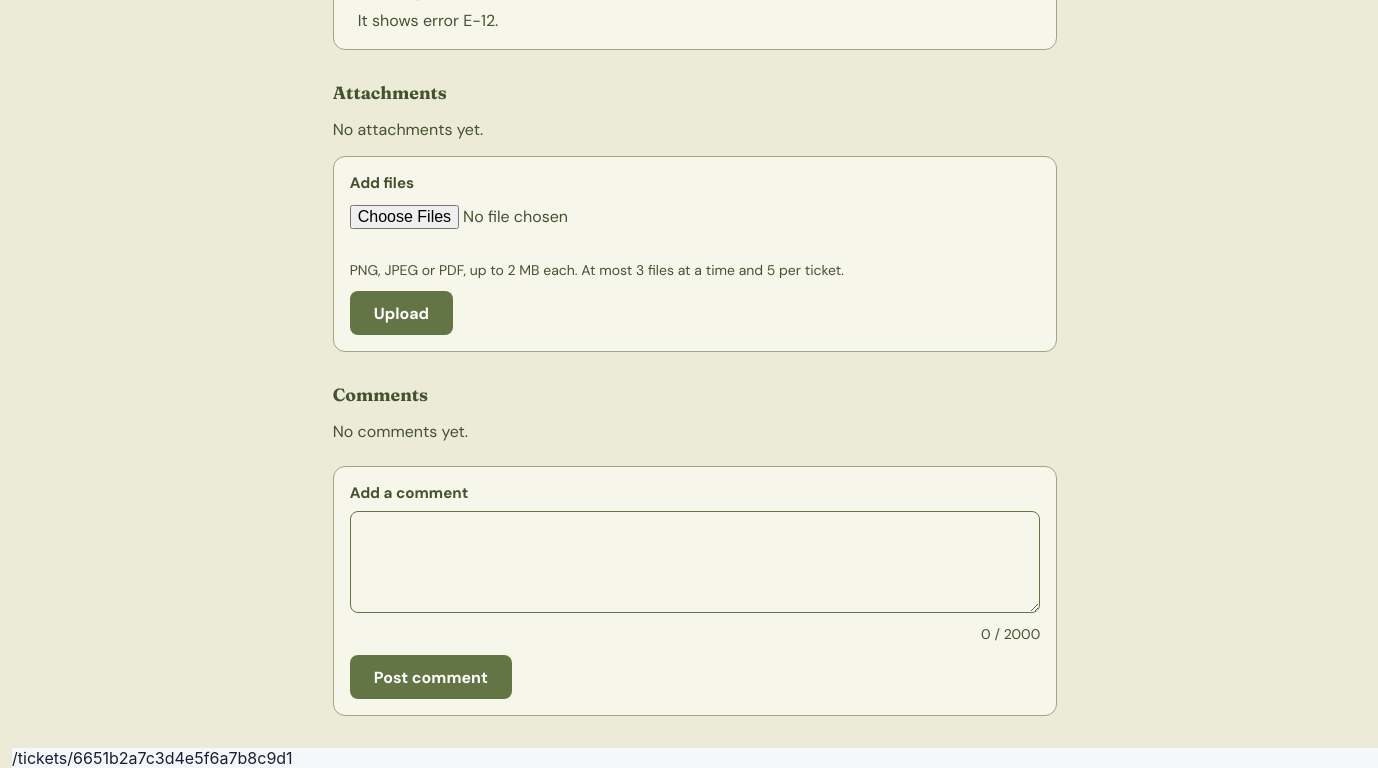
Test: comment form › shows the field message from a 400
(page scrolled)
Type "Hello" into the text box labelled "Add a comment".
click(695, 562); type("Hello")  # box [350, 511, 1040, 613]
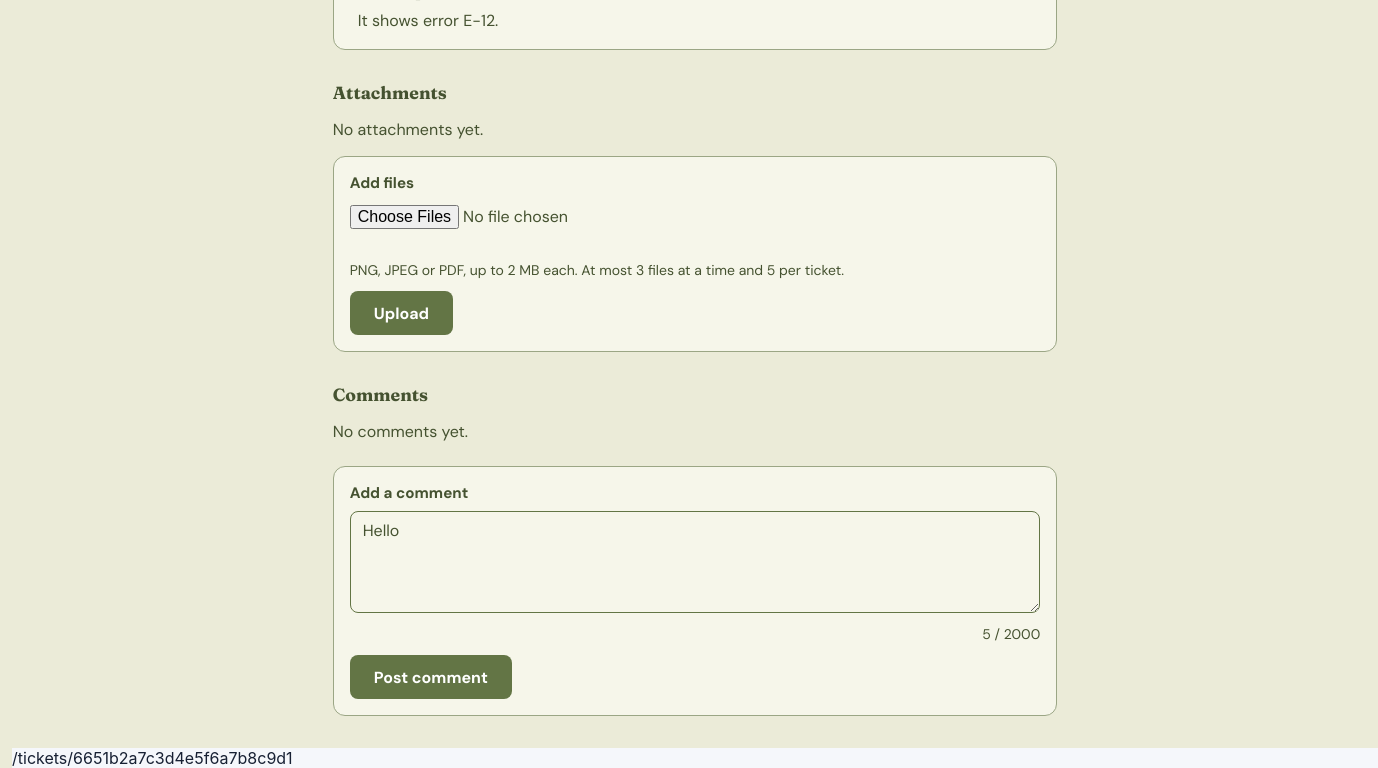
Click the button "Post comment".
click(431, 677)  # box [350, 655, 512, 699]
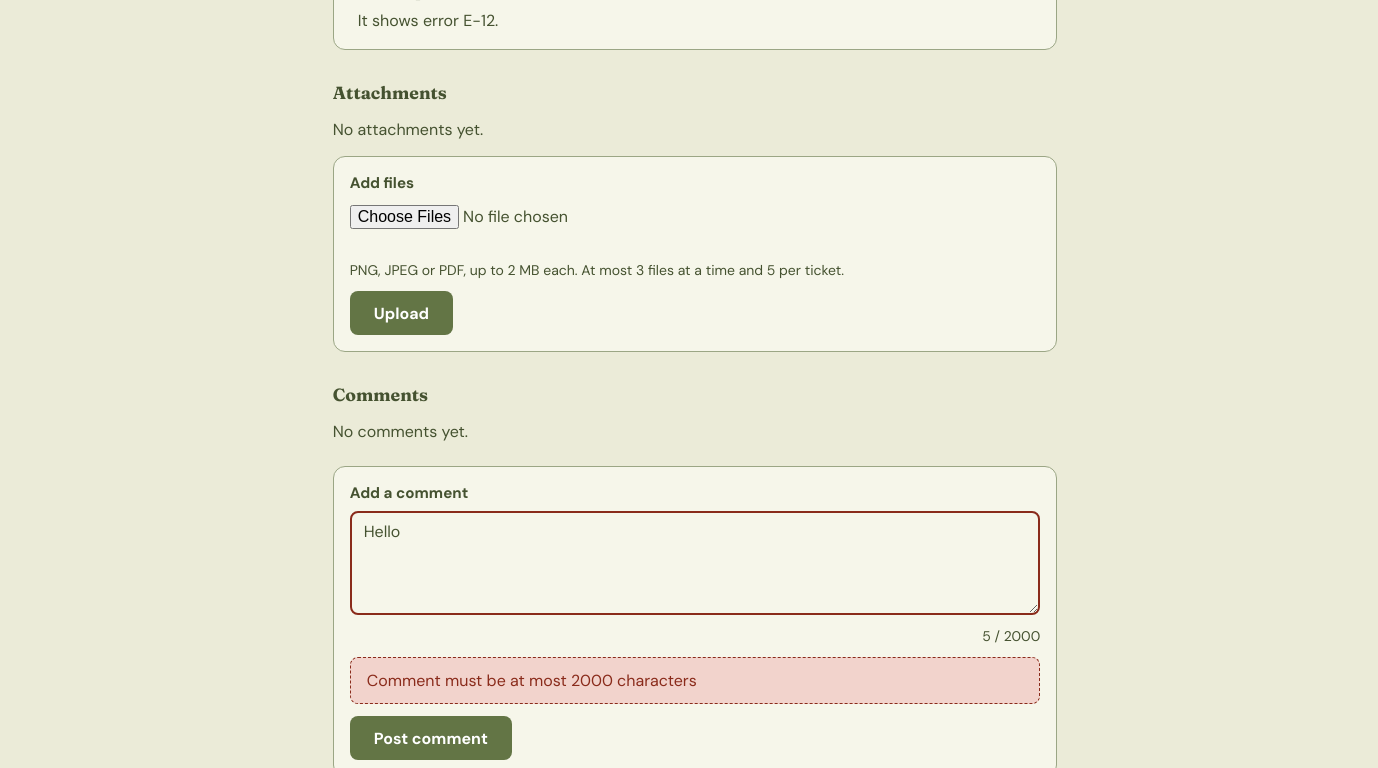
Result: the message reads "Comment must be at most 2000 characters" at [367, 670, 697, 691]
